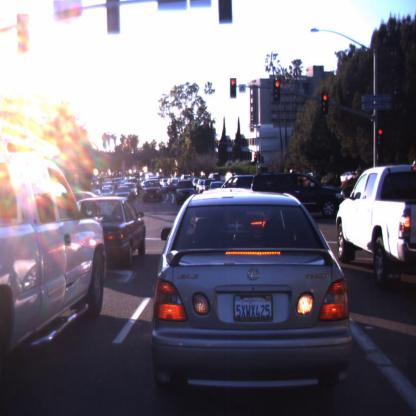trafficlight: (272, 78, 282, 102), (320, 92, 329, 116), (229, 76, 237, 100), (376, 126, 384, 150), (213, 139, 219, 150), (253, 153, 258, 166)
